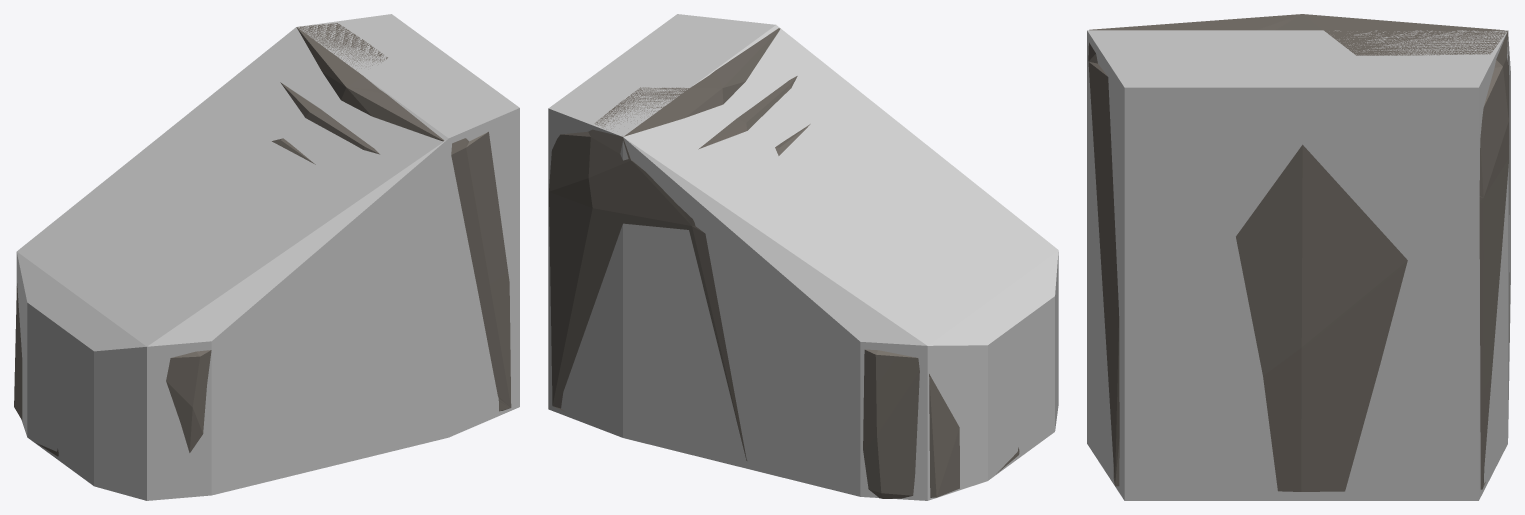
The model's file is SM_Env_Rock_Stairs_04.fbx.
The picture shows the model from 3 angles, left to right: view 1: azimuth 30°, elevation 25°; view 2: azimuth 150°, elevation 25°; view 3: azimuth 270°, elevation 25°; orthographic projection. The views are drawn at different scales.
Parts seen in each view (by area): view 1: SM_Env_Rock_Stairs_04_ConvexHulls, SM_Env_Rock_Stairs_04; view 2: SM_Env_Rock_Stairs_04_ConvexHulls, SM_Env_Rock_Stairs_04; view 3: SM_Env_Rock_Stairs_04_ConvexHulls, SM_Env_Rock_Stairs_04.
Part boxes in pixels (<box>): SM_Env_Rock_Stairs_04_ConvexHulls: <box>16,14,519,500</box>; SM_Env_Rock_Stairs_04: <box>14,23,511,456</box>; SM_Env_Rock_Stairs_04_ConvexHulls: <box>548,14,1058,500</box>; SM_Env_Rock_Stairs_04: <box>549,28,1019,498</box>; SM_Env_Rock_Stairs_04_ConvexHulls: <box>1087,30,1510,500</box>; SM_Env_Rock_Stairs_04: <box>1088,14,1509,491</box>.
Bounding box in the file's own units: 398 × 262 × 284.
2 materials, 1 textured.
